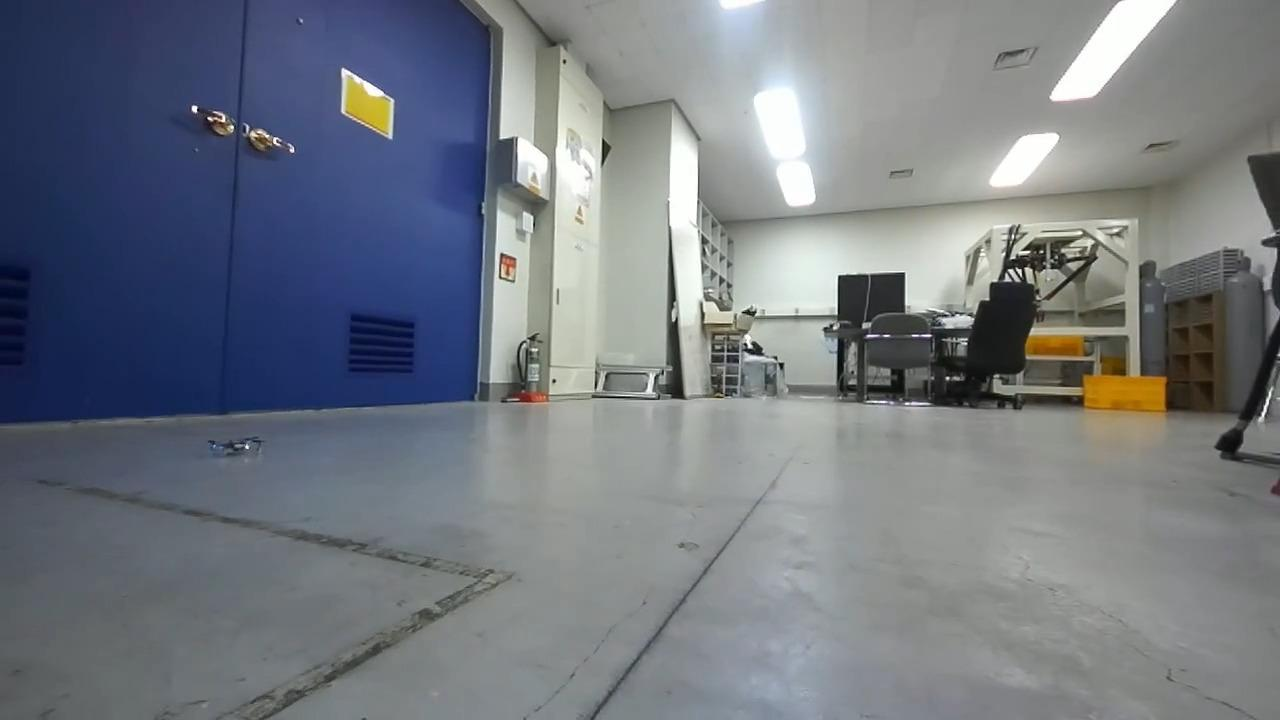crazyflie: (202, 429, 269, 462)
